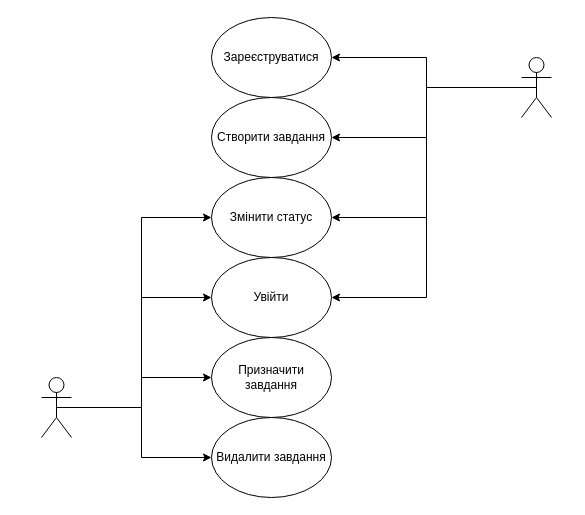
Image size: 585x515. Some labels were removed from this diagram. The shapes that lost their labels are listed below. From the top down, each one's centre as x and y in pixels, then its label:
(x=536, y=87): користувач
(x=56, y=407): Адміністратор
